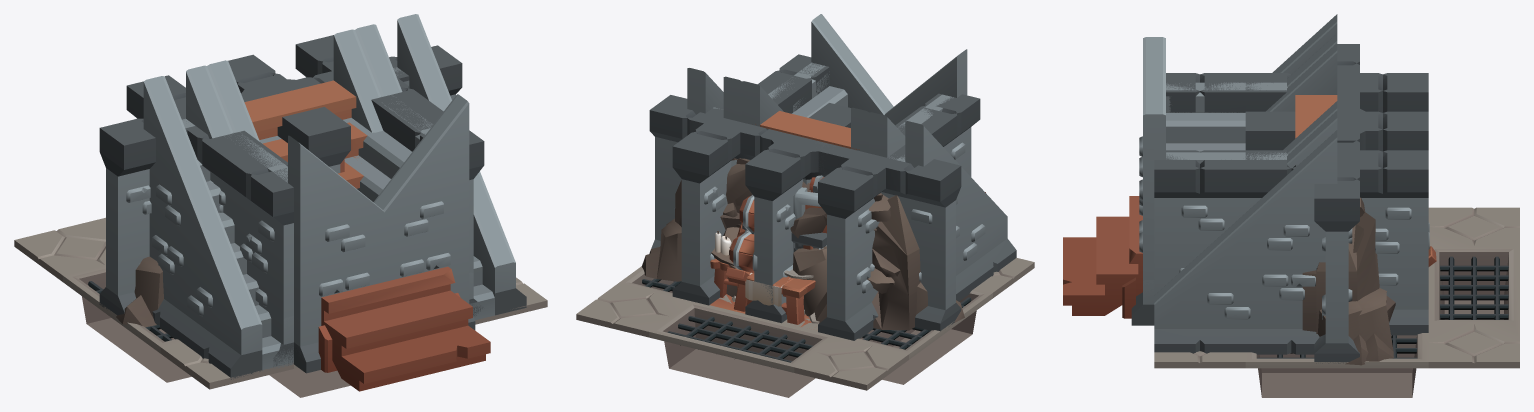
The model's file is pack_dungeon.glb.
3 views of the same model, side by side, from view 1: azimuth 30°, elevation 25°; view 2: azimuth 150°, elevation 25°; view 3: azimuth 270°, elevation 25° (orthographic). The views are drawn at different scales.
Visible parts, largest first — view 1: stairs_wide, stairs_wood, stairs_wall_right, stairs_walled, stairs_wall_left, floor_tile_extralarge_grates, wall_doorway_Tsplit, stairs, stairs_narrow, wall_doorway_sides, rubble_large, wall_crossing (+4 smaller); view 2: floor_tile_extralarge_grates, wall_doorway_sides, wall_doorway_Tsplit, rubble_large, stairs_wide, wall_crossing, stairs_wall_right, stairs_walled, stairs_wall_left, rubble_half, stairs, stairs_narrow (+9 smaller); view 3: floor_tile_extralarge_grates, stairs_wide, wall_doorway_sides, stairs_walled, wall_doorway_Tsplit, stairs_wood, stairs_wall_left, rubble_half, stairs_wall_right, wall_crossing, stairs_narrow, rubble_large (+6 smaller).
Boxes of the visible parts, left/top/right/bottom form: stairs_wide: left=143, top=14, right=526, bottom=379; stairs_wood: left=244, top=80, right=490, bottom=391; stairs_wall_right: left=294, top=71, right=475, bottom=372; stairs_walled: left=185, top=87, right=484, bottom=365; stairs_wall_left: left=224, top=73, right=475, bottom=373; floor_tile_extralarge_grates: left=14, top=217, right=547, bottom=397; wall_doorway_Tsplit: left=99, top=45, right=462, bottom=315; stairs: left=186, top=24, right=482, bottom=365; stairs_narrow: left=207, top=29, right=383, bottom=141; wall_doorway_sides: left=126, top=35, right=430, bottom=205; rubble_large: left=116, top=256, right=163, bottom=327; wall_crossing: left=228, top=54, right=333, bottom=153; floor_tile_extralarge_grates: left=576, top=257, right=1034, bottom=397; wall_doorway_sides: left=672, top=89, right=937, bottom=340; wall_doorway_Tsplit: left=649, top=86, right=961, bottom=331; rubble_large: left=649, top=181, right=964, bottom=330; stairs_wide: left=687, top=68, right=1016, bottom=301; wall_crossing: left=741, top=103, right=844, bottom=323; stairs_wall_right: left=735, top=14, right=893, bottom=160; stairs_walled: left=723, top=54, right=980, bottom=176; stairs_wall_left: left=729, top=49, right=967, bottom=176; rubble_half: left=641, top=158, right=749, bottom=296; stairs: left=723, top=76, right=905, bottom=157; stairs_narrow: left=742, top=81, right=868, bottom=153; floor_tile_extralarge_grates: left=1154, top=207, right=1519, bottom=397; stairs_wide: left=1154, top=14, right=1337, bottom=354; wall_doorway_sides: left=1245, top=73, right=1428, bottom=335; stairs_walled: left=1154, top=73, right=1298, bottom=294; wall_doorway_Tsplit: left=1245, top=44, right=1359, bottom=363; stairs_wood: left=1063, top=95, right=1337, bottom=318; stairs_wall_left: left=1131, top=37, right=1359, bottom=325; rubble_half: left=1316, top=197, right=1395, bottom=361; stairs_wall_right: left=1132, top=82, right=1359, bottom=312; wall_crossing: left=1273, top=111, right=1428, bottom=154; stairs_narrow: left=1266, top=43, right=1337, bottom=154; rubble_large: left=1302, top=224, right=1368, bottom=365.
Size of the model in its own units: 8.13 by 6.3 by 10.
Materials: 1 (1 with a texture image).
